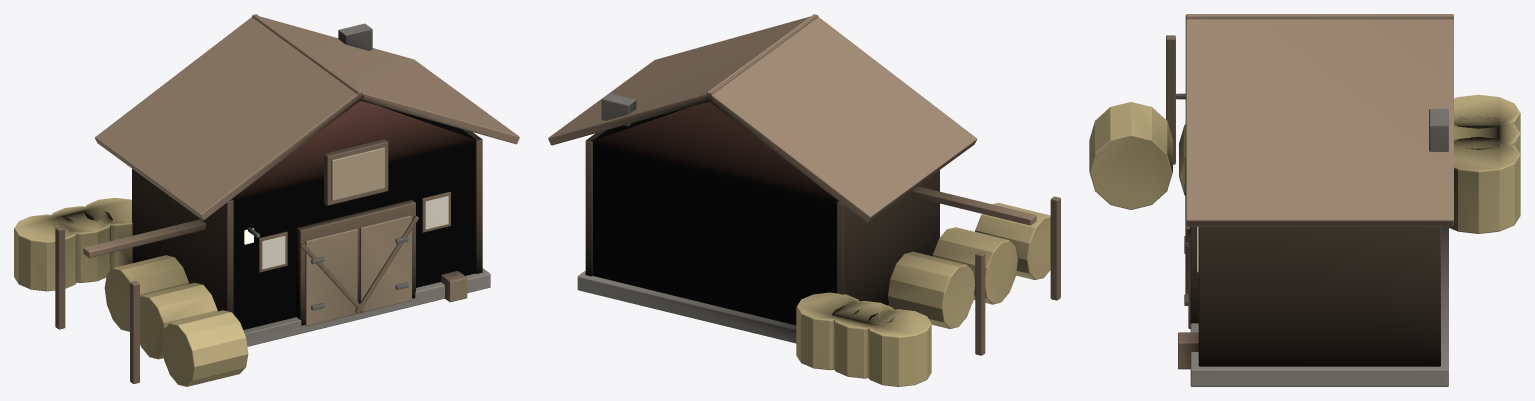
File: barn.glb
3 renders of one model, left to right at view 1: azimuth 30°, elevation 25°; view 2: azimuth 150°, elevation 25°; view 3: azimuth 270°, elevation 25°, orthographic. The views are drawn at different scales.
Visible parts, largest first — view 1: base; view 2: base; view 3: base.
Part boxes in pixels (bbox=[...]): base: bbox=[14, 14, 519, 386]; base: bbox=[548, 14, 1060, 386]; base: bbox=[1089, 14, 1520, 386].
Size of the model in its own units: 5.95 by 3.23 by 4.34.
